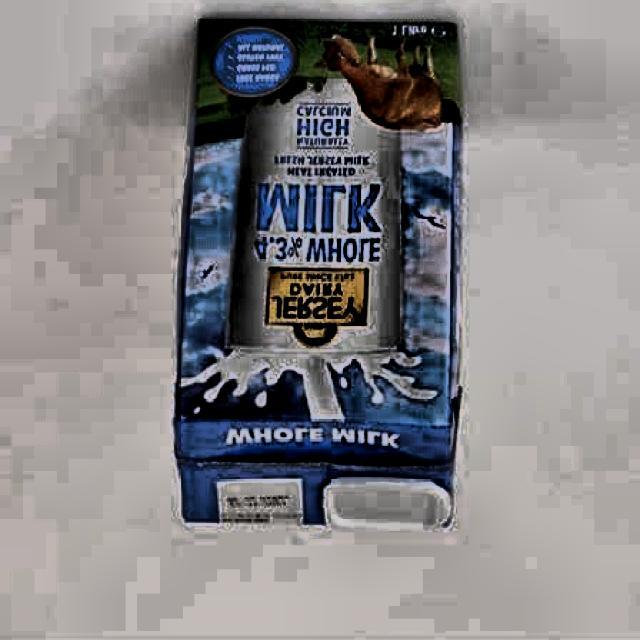cardboard: (172, 19, 464, 532)
